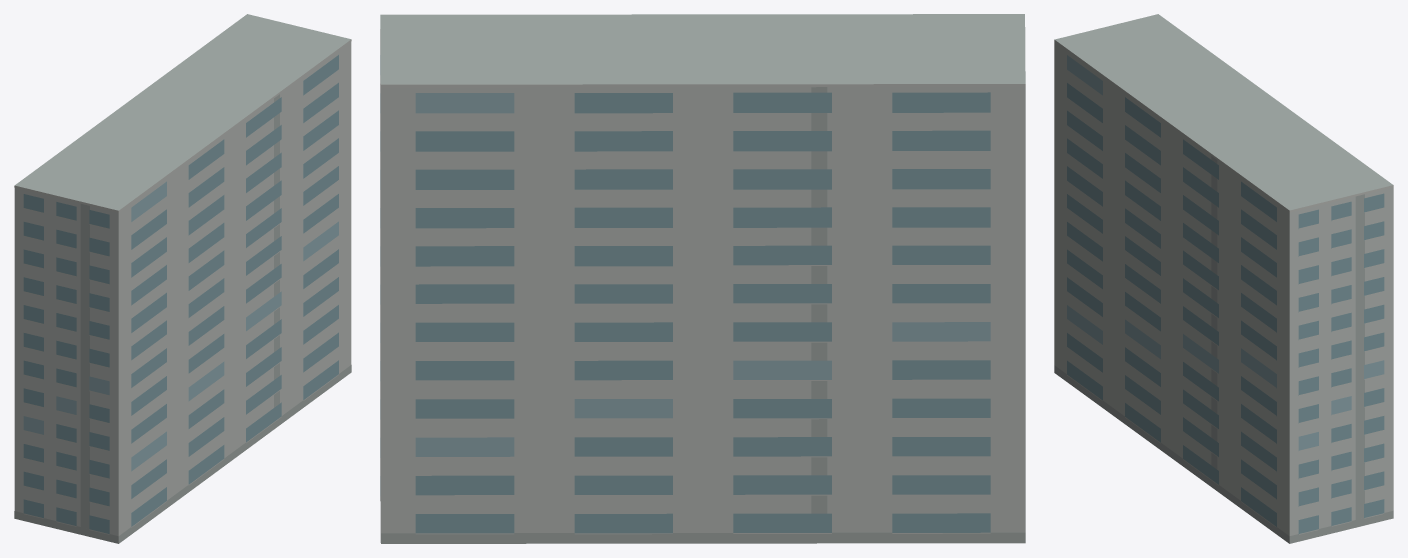
The model's file is residential-38e1131d-feb7-4d78-be5f-e24ced5efef2.glb.
The picture shows the model from 3 angles, left to right: view 1: azimuth 30°, elevation 25°; view 2: azimuth 150°, elevation 25°; view 3: azimuth 270°, elevation 25°; orthographic projection. The views are drawn at different scales.
Visible parts, largest first — view 1: residential-38e1131d-feb7-4d78-be5f-e24ced5efef2.tmp; view 2: residential-38e1131d-feb7-4d78-be5f-e24ced5efef2.tmp; view 3: residential-38e1131d-feb7-4d78-be5f-e24ced5efef2.tmp.
Part boxes in pixels (x1,y1,x2,y2): residential-38e1131d-feb7-4d78-be5f-e24ced5efef2.tmp: (14,14,351,543); residential-38e1131d-feb7-4d78-be5f-e24ced5efef2.tmp: (380,14,1025,543); residential-38e1131d-feb7-4d78-be5f-e24ced5efef2.tmp: (1054,14,1393,543).
Bounding box in the file's own units: 48.05 × 38 × 35.03.
